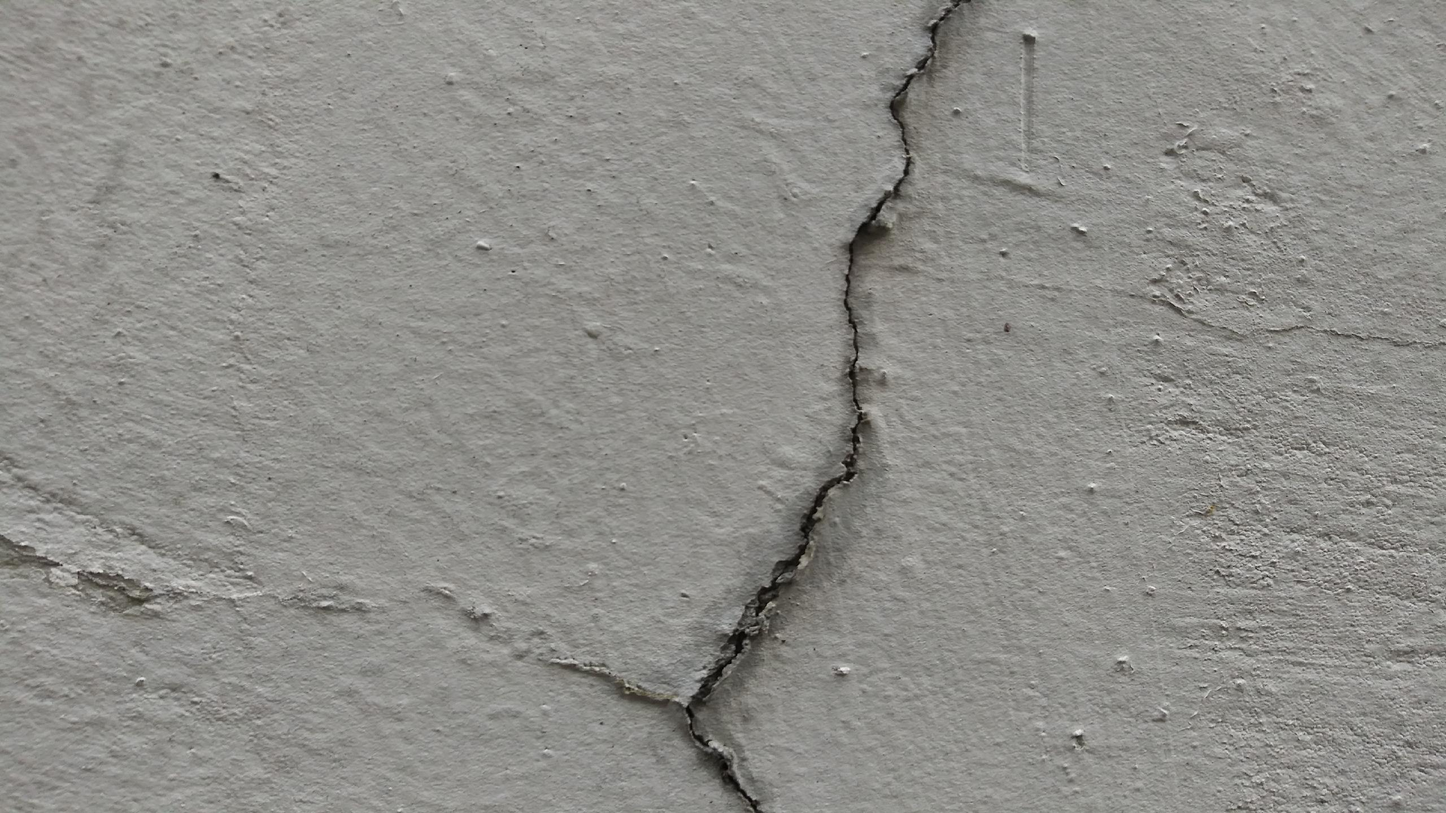crack: (681, 0, 972, 810)
